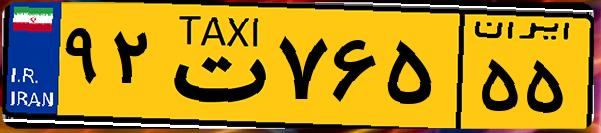2: (110, 28, 158, 98)
5: (385, 28, 445, 110), (475, 38, 525, 113), (525, 38, 570, 115)
6: (330, 28, 385, 110)
7: (270, 28, 330, 110)
9: (57, 26, 110, 100)
ت: (158, 12, 270, 120)
